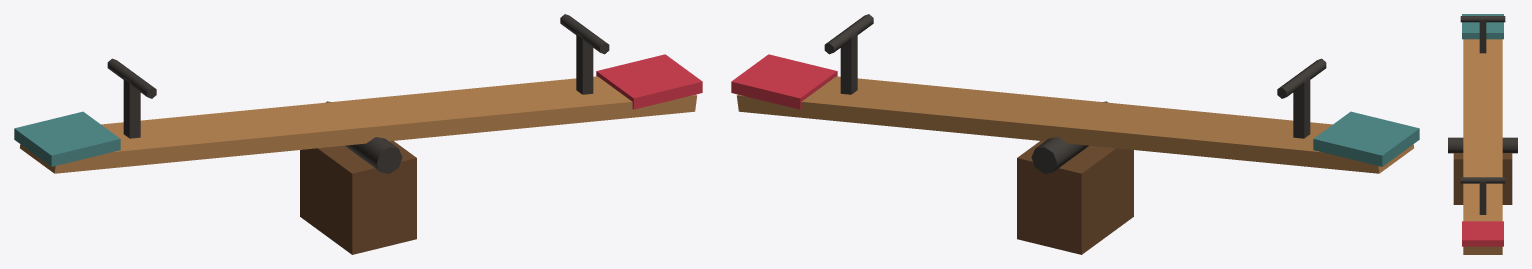
The model's file is prop_seesaw.glb.
3 views of the same model, side by side, from view 1: azimuth 30°, elevation 25°; view 2: azimuth 150°, elevation 25°; view 3: azimuth 270°, elevation 25° (orthographic). The views are drawn at different scales.
Parts seen in each view (by area): view 1: Prop_Seesaw; view 2: Prop_Seesaw; view 3: Prop_Seesaw.
Boxes of the visible parts, x1,y1,x2,y2 form: Prop_Seesaw: (14, 14, 702, 254); Prop_Seesaw: (731, 14, 1419, 254); Prop_Seesaw: (1448, 14, 1517, 254).
Size of the model in its own units: 3.02 by 0.9311 by 0.5.
